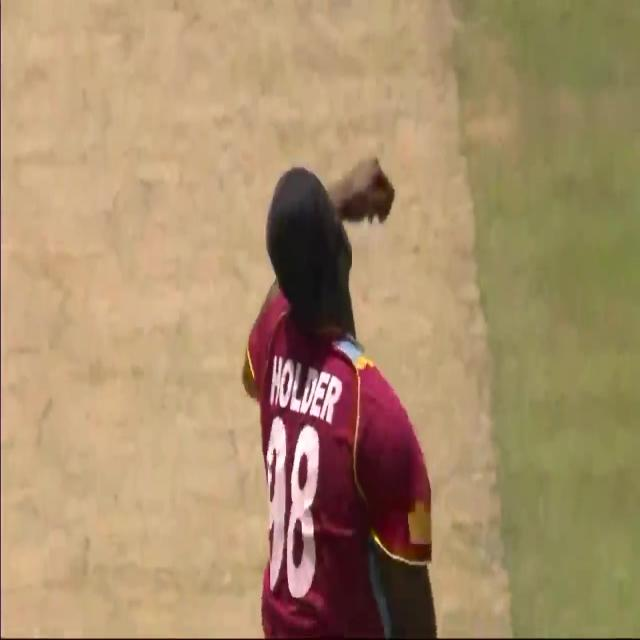Fielder: (237, 61, 440, 634)
